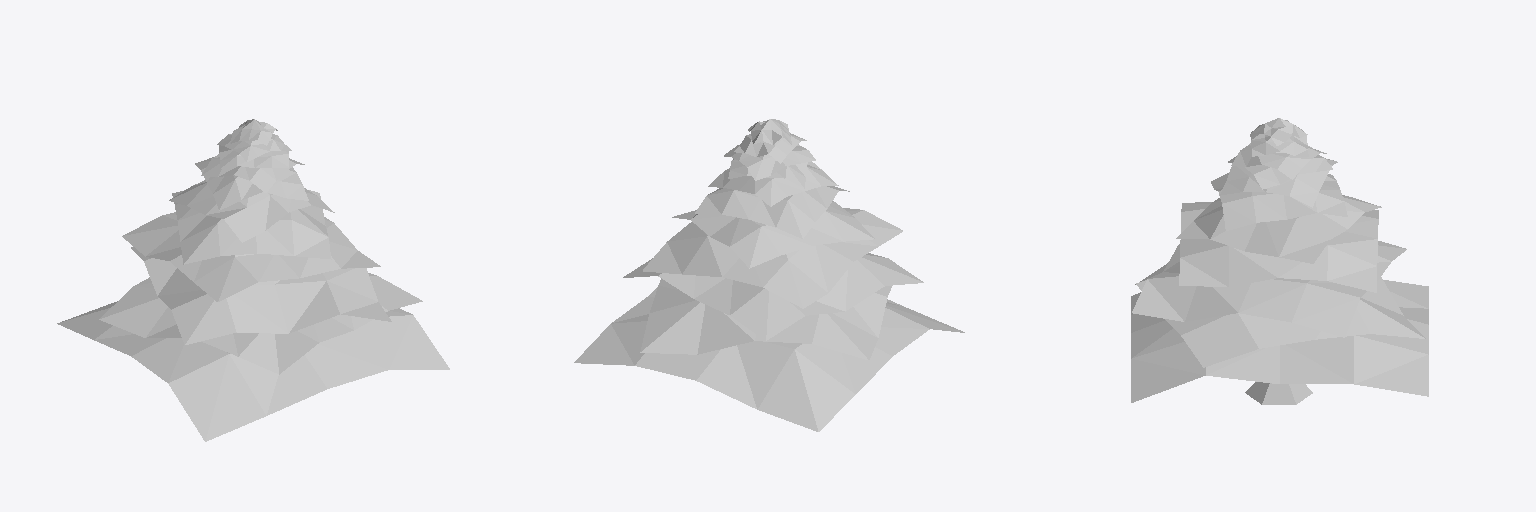
File: pine_sorted.obj
3 renders of one model, left to right at view 1: azimuth 30°, elevation 25°; view 2: azimuth 150°, elevation 25°; view 3: azimuth 270°, elevation 25°, orthographic.
Parts seen in each view (by area): view 1: Grid; view 2: Grid; view 3: Grid.
Boxes of the visible parts, <box> form: Grid: <box>57,119,449,441</box>; Grid: <box>574,119,964,431</box>; Grid: <box>1131,118,1428,404</box>.
Size of the model in its own units: 1.96 by 1.99 by 1.95.